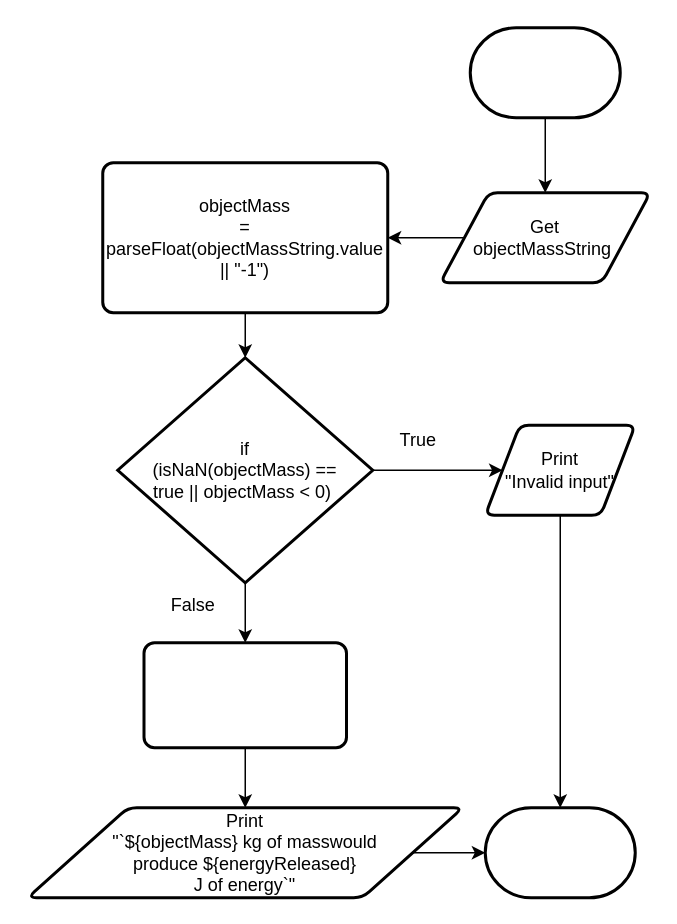
This 677x924 diagram has some shape labels left out. Here are the shapes that lost their labels. From the top down, the centre of each, then its label:
At (544,72): "Start".
At (244,694): "let energyReleased = objectMass * Math.pow(2.99e8, 2)".
At (559,852): "Stop".
